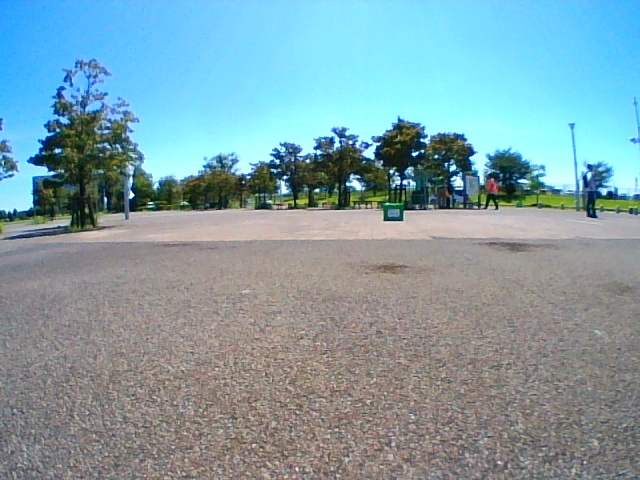green_box: (383, 203, 402, 221)
